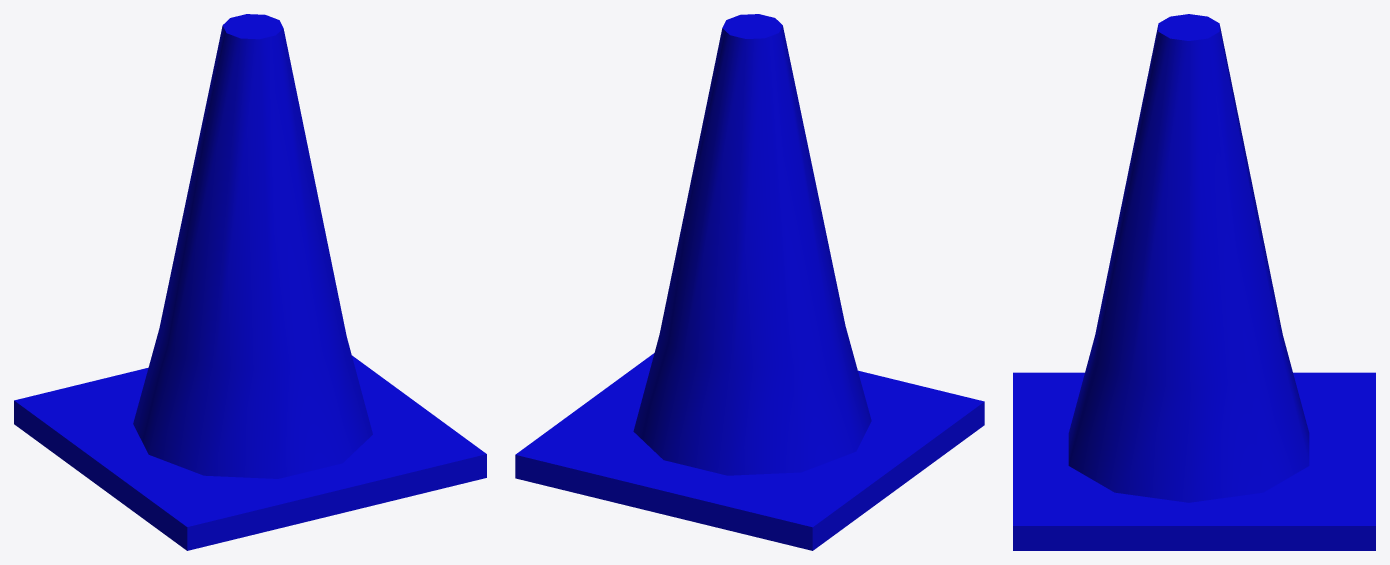
Rendered from ConeModel.fbx.
3 views of the same model, side by side, from view 1: azimuth 30°, elevation 25°; view 2: azimuth 150°, elevation 25°; view 3: azimuth 270°, elevation 25° (orthographic). The views are drawn at different scales.
Parts seen in each view (by area): view 1: cone; view 2: cone; view 3: cone.
Part boxes in pixels (left/top/right/bottom): cone: left=14, top=14, right=486, bottom=550; cone: left=515, top=14, right=984, bottom=550; cone: left=1013, top=14, right=1375, bottom=550.
Size of the model in its own units: 33.37 by 45.36 by 33.39.
